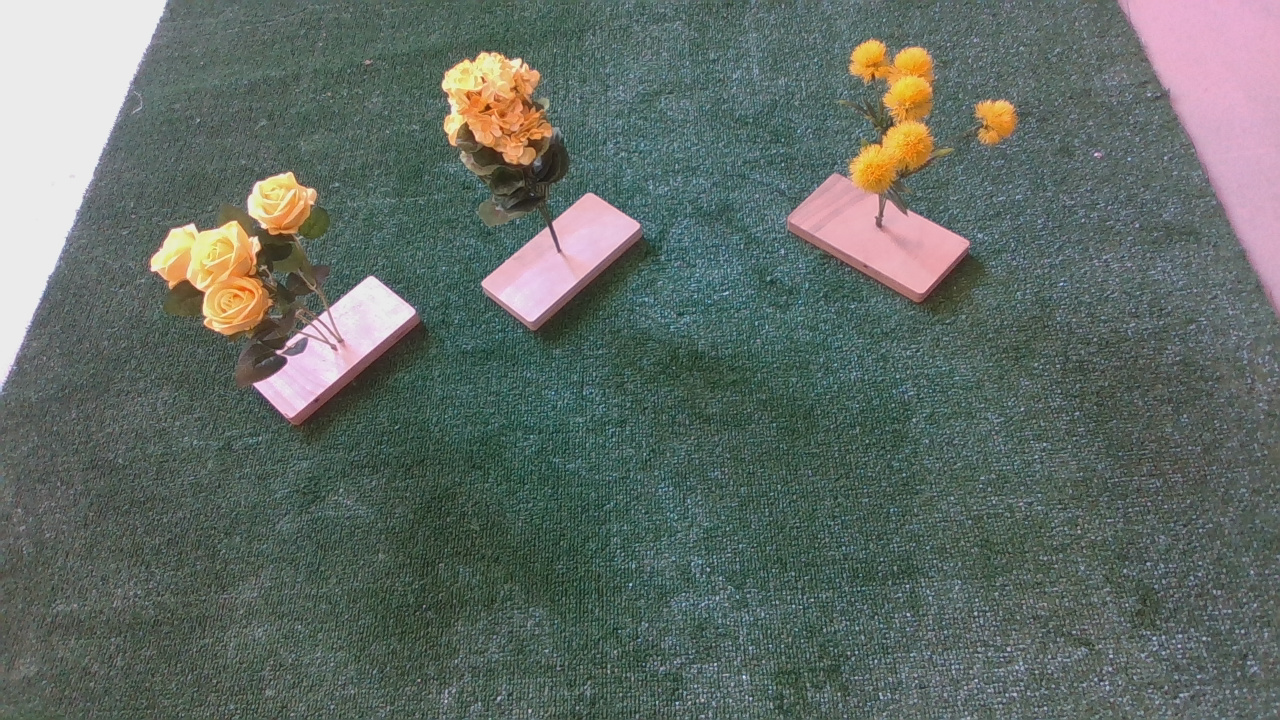dandelion: (848, 39, 1027, 209)
geranium: (437, 45, 583, 237)
rose: (151, 174, 365, 384)
